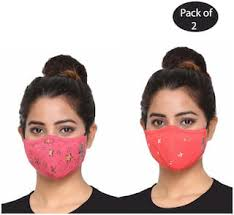with-mask: (140, 51, 224, 178), (14, 57, 100, 178)
